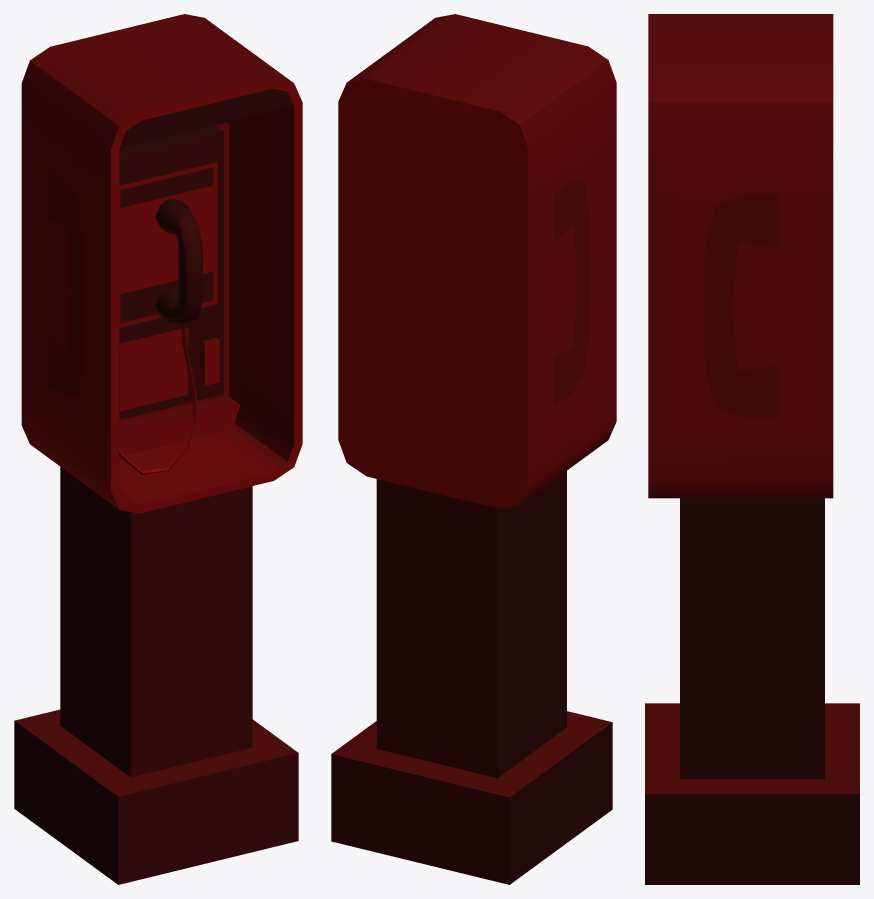
The model's file is PayPhone.glb.
3 views of the same model, side by side, from view 1: azimuth 30°, elevation 25°; view 2: azimuth 150°, elevation 25°; view 3: azimuth 270°, elevation 25° (orthographic). The views are drawn at different scales.
Visible parts, largest first — view 1: PayPhone; view 2: PayPhone; view 3: PayPhone.
Part boxes in pixels (<box>): PayPhone: <box>14,14,302,884</box>; PayPhone: <box>331,14,616,884</box>; PayPhone: <box>645,14,859,884</box>.
Size of the model in its own units: 2.52 by 9.63 by 2.37.
